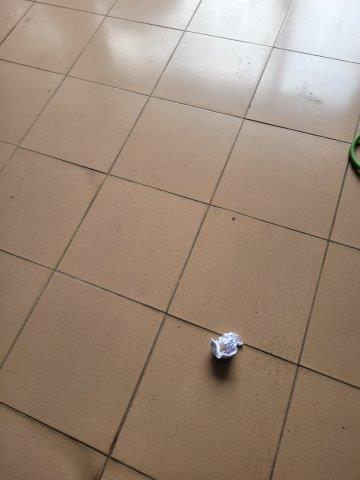kertas: (209, 330, 244, 363)
